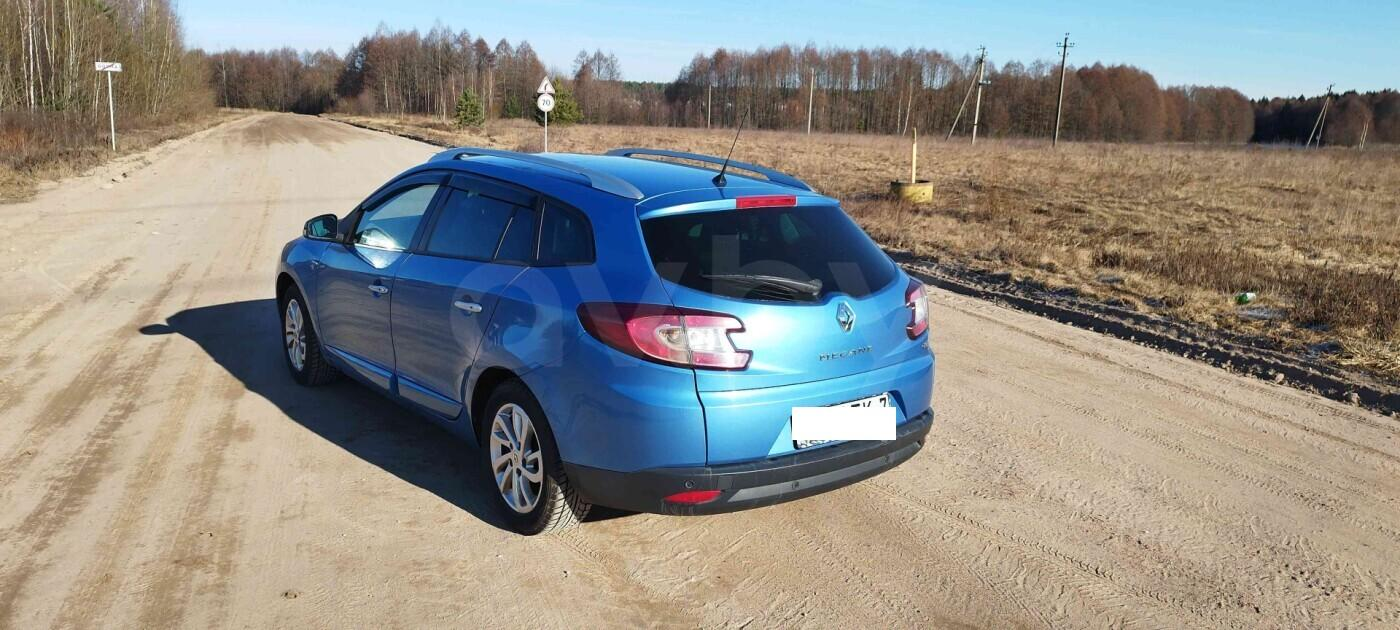Megane_2014-2016: (265, 145, 932, 527)
